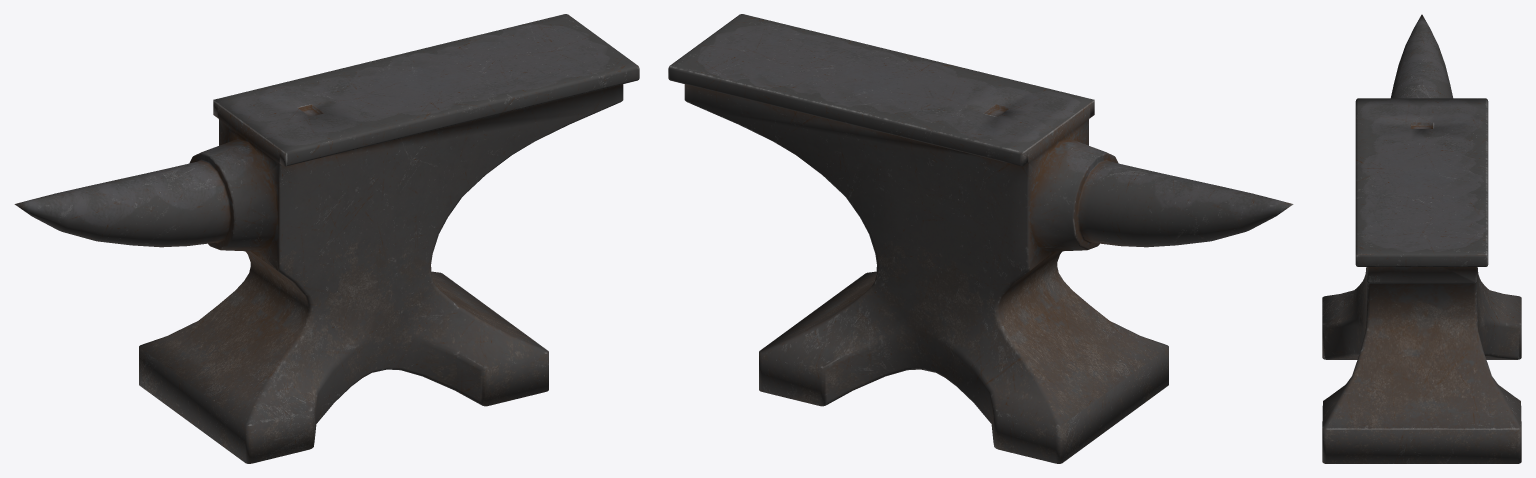
Rendered from kovadlina.glb.
The picture shows the model from 3 angles, left to right: view 1: azimuth 30°, elevation 25°; view 2: azimuth 150°, elevation 25°; view 3: azimuth 270°, elevation 25°; orthographic projection. The views are drawn at different scales.
Visible parts, largest first — view 1: Plane; view 2: Plane; view 3: Plane.
Part boxes in pixels (x1,y1,x2,y2): Plane: (14, 14, 639, 463); Plane: (668, 14, 1293, 463); Plane: (1322, 14, 1521, 463).
Bounding box in the file's own units: 2.17 × 1 × 0.705.
1 material, 1 textured.
